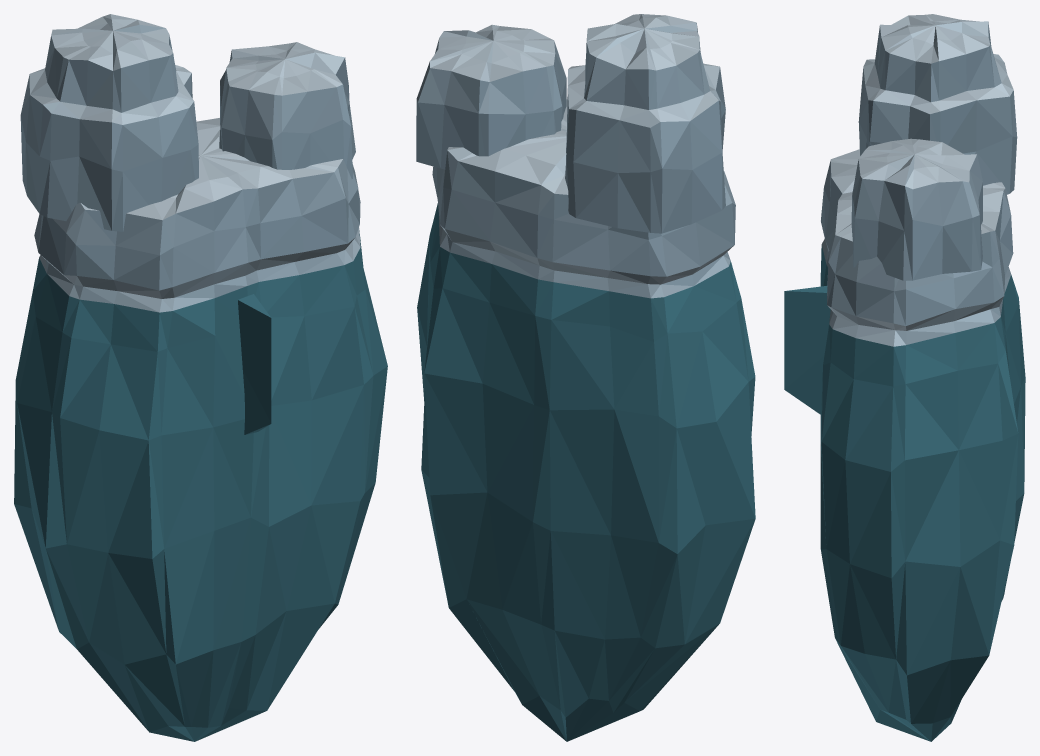
File: iceberg_drydock.glb
The picture shows the model from 3 angles, left to right: view 1: azimuth 30°, elevation 25°; view 2: azimuth 150°, elevation 25°; view 3: azimuth 270°, elevation 25°; orthographic projection. The views are drawn at different scales.
Parts seen in each view (by area): view 1: iceberg_drydock; view 2: iceberg_drydock; view 3: iceberg_drydock.
Part boxes in pixels (bbox=[...]): iceberg_drydock: bbox=[14, 14, 387, 741]; iceberg_drydock: bbox=[416, 14, 755, 741]; iceberg_drydock: bbox=[784, 14, 1025, 741].
Bounding box in the file's own units: 14.8 × 31 × 9.95.
